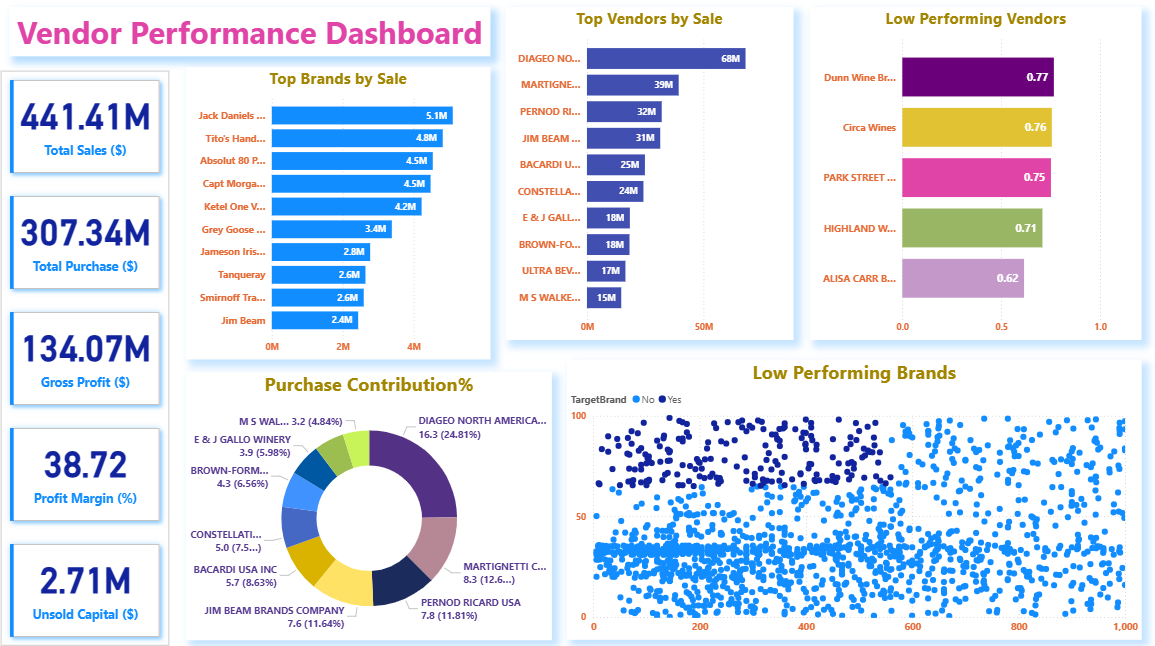

This screenshot's page, from the dashboard's own definition file:
{"tool":"powerbi","page":{"name":"Page 1","canvas":[1600,900],"ordinal":0},"visuals":[{"type":"cardVisual","title":" ","fields":{"Data":["Sum(vendor_sales_summary_clean.TotalSalesDollars)","Sum(vendor_sales_summary_clean.TotalPurchaseDollars)","Sum(vendor_sales_summary_clean.GrossProfit)","Avg(vendor_sales_summary_clean.ProfitMargin)","Sum(vendor_sales_summary_clean.UnsoldCapital)"]},"box":[0,95.2,242.1,804.8],"z":1},{"type":"donutChart","title":"Purchase Contribution%","fields":{"Y":["Sum(PurchaseContribution.PurchaseContribution%)"],"Category":["PurchaseContribution.VendorName"]},"box":[260.7,515.2,504.8,370.3],"z":2},{"type":"textbox","box":[16.6,12.4,664.1,68.3],"z":3},{"type":"barChart","title":"Top Vendors by Sale","fields":{"Category":["vendor_sales_summary_clean.VendorName"],"Y":["Sum(vendor_sales_summary_clean.TotalSalesDollars)"]},"box":[701.4,12.4,397.2,459.3],"z":4},{"type":"barChart","title":"Top Brands by Sale","fields":{"Y":["Sum(vendor_sales_summary_clean.TotalSalesDollars)"],"Category":["vendor_sales_summary_clean.Description"]},"box":[260.7,95.2,420,403.4],"z":5},{"type":"barChart","title":"Low Performing Vendors","fields":{"Category":["LowTurnoverVendor.VendorName"],"Y":["Sum(LowTurnoverVendor.AvgStockTurnover)"]},"box":[1121.4,12.4,457.2,459.3],"z":6},{"type":"scatterChart","title":"Low Performing Brands","fields":{"Category":["BrandPerformance.Description"],"X":["Sum(BrandPerformance.TotalSales)"],"Y":["Sum(BrandPerformance.AvgProfitMargin)"],"Series":["BrandPerformance.TargetBrand"]},"box":[786.2,498.6,792.4,386.9],"z":7}]}

Visuals, with their boxes in screenshot pixels (x1, y1, x2, y2), scaled from the page's 1600x900 canvas onto the 1155x646 screenshot:
" " cardVisual: box=[0, 68, 175, 645]
"Purchase Contribution%" donutChart: box=[188, 370, 553, 636]
textbox: box=[12, 9, 491, 58]
"Top Vendors by Sale" barChart: box=[506, 9, 793, 339]
"Top Brands by Sale" barChart: box=[188, 68, 491, 358]
"Low Performing Vendors" barChart: box=[810, 9, 1140, 339]
"Low Performing Brands" scatterChart: box=[568, 358, 1140, 636]
